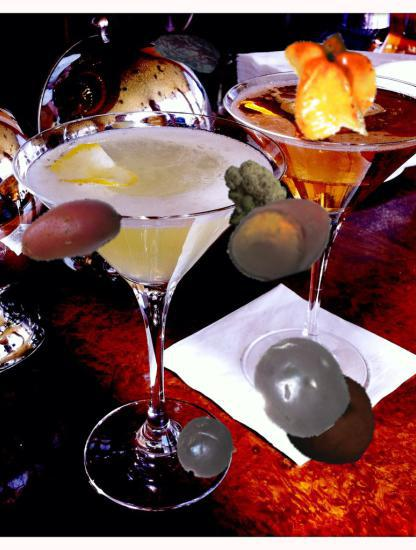Carambula: (272, 29, 392, 149)
Cauliflower: (214, 161, 290, 237)
Dates: (154, 18, 221, 85)
Hazelnut: (225, 183, 336, 294)
Passion: (248, 335, 351, 438), (175, 416, 238, 479)
Pear: (280, 370, 380, 470)
Potato: (18, 179, 124, 285)
